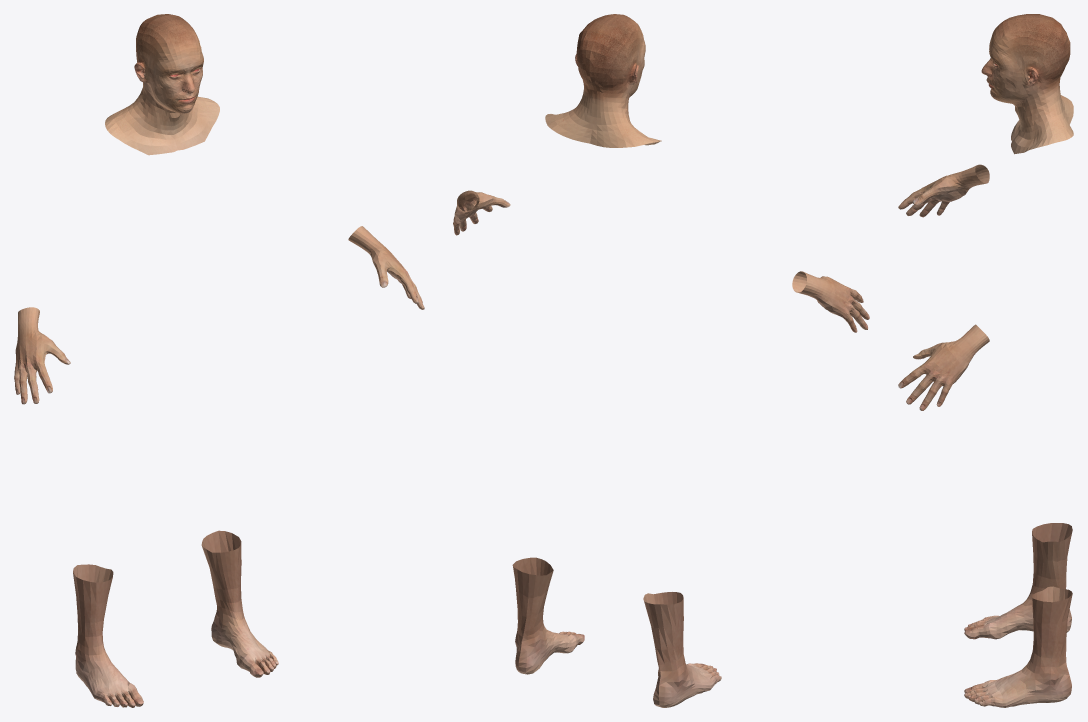
File: middleage_asian_male.obj
The picture shows the model from 3 angles, left to right: view 1: azimuth 30°, elevation 25°; view 2: azimuth 150°, elevation 25°; view 3: azimuth 270°, elevation 25°; orthographic projection.
Size of the model in its own units: 1.21 by 1.88 by 0.459.
Materials: 1 (1 with a texture image).
